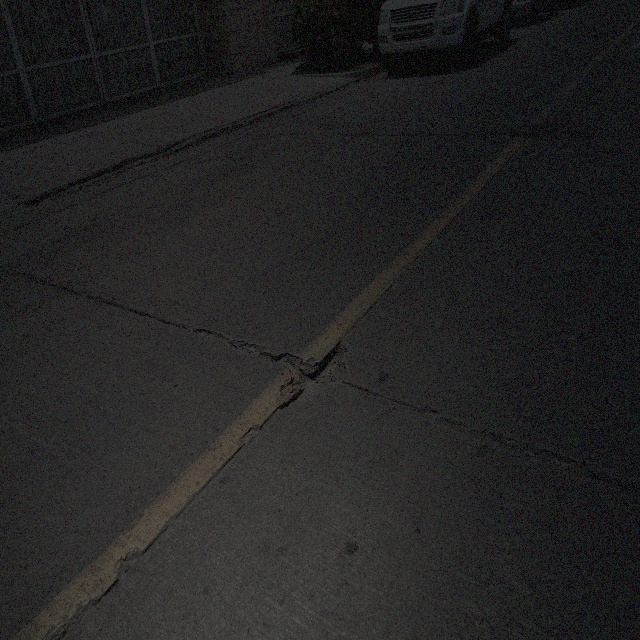pothole: (276, 336, 348, 411), (512, 126, 539, 141)
